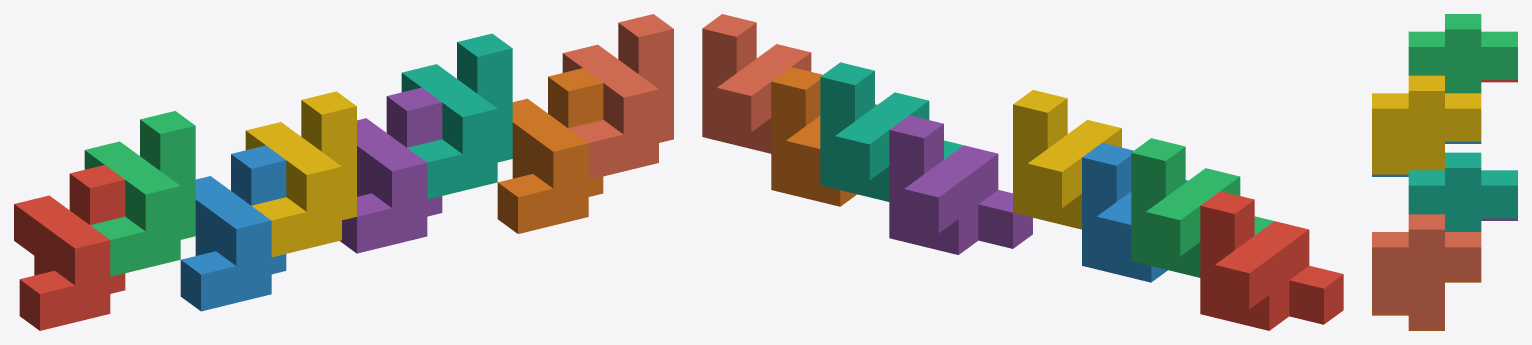
The model's file is tiling.obj.
The picture shows the model from 3 angles, left to right: view 1: azimuth 30°, elevation 25°; view 2: azimuth 150°, elevation 25°; view 3: azimuth 270°, elevation 25°; orthographic projection. The views are drawn at different scales.
Parts seen in each view (by area): view 1: copy_1_domain_1, copy_1_domain_2, copy_1_domain_6, copy_1_domain_7, copy_1_domain_3, copy_1_domain_4, copy_1_domain_8, copy_1_domain_5; view 2: copy_1_domain_1, copy_1_domain_5, copy_1_domain_3, copy_1_domain_7, copy_1_domain_8, copy_1_domain_4, copy_1_domain_6, copy_1_domain_2; view 3: copy_1_domain_8, copy_1_domain_4, copy_1_domain_3, copy_1_domain_7, copy_1_domain_6, copy_1_domain_2.
Boxes of the visible parts, left/top/right/bottom form: copy_1_domain_1: left=14, top=165, right=125, bottom=330; copy_1_domain_2: left=180, top=145, right=286, bottom=311; copy_1_domain_6: left=497, top=68, right=603, bottom=233; copy_1_domain_7: left=401, top=33, right=512, bottom=199; copy_1_domain_3: left=84, top=111, right=195, bottom=276; copy_1_domain_4: left=245, top=91, right=356, bottom=257; copy_1_domain_8: left=562, top=14, right=673, bottom=179; copy_1_domain_5: left=340, top=87, right=442, bottom=253; copy_1_domain_1: left=1200, top=191, right=1343, bottom=330; copy_1_domain_5: left=889, top=115, right=1032, bottom=254; copy_1_domain_3: left=1131, top=138, right=1274, bottom=277; copy_1_domain_7: left=820, top=62, right=963, bottom=201; copy_1_domain_8: left=702, top=14, right=811, bottom=153; copy_1_domain_4: left=1013, top=90, right=1121, bottom=229; copy_1_domain_6: left=771, top=67, right=877, bottom=206; copy_1_domain_2: left=1082, top=143, right=1187, bottom=282; copy_1_domain_8: left=1372, top=214, right=1481, bottom=328; copy_1_domain_4: left=1372, top=75, right=1481, bottom=174; copy_1_domain_3: left=1408, top=14, right=1517, bottom=93; copy_1_domain_7: left=1408, top=152, right=1517, bottom=231; copy_1_domain_6: left=1372, top=280, right=1481, bottom=330; copy_1_domain_2: left=1372, top=141, right=1481, bottom=176.
Bounding box in the file's own units: 18 × 4 × 4.
